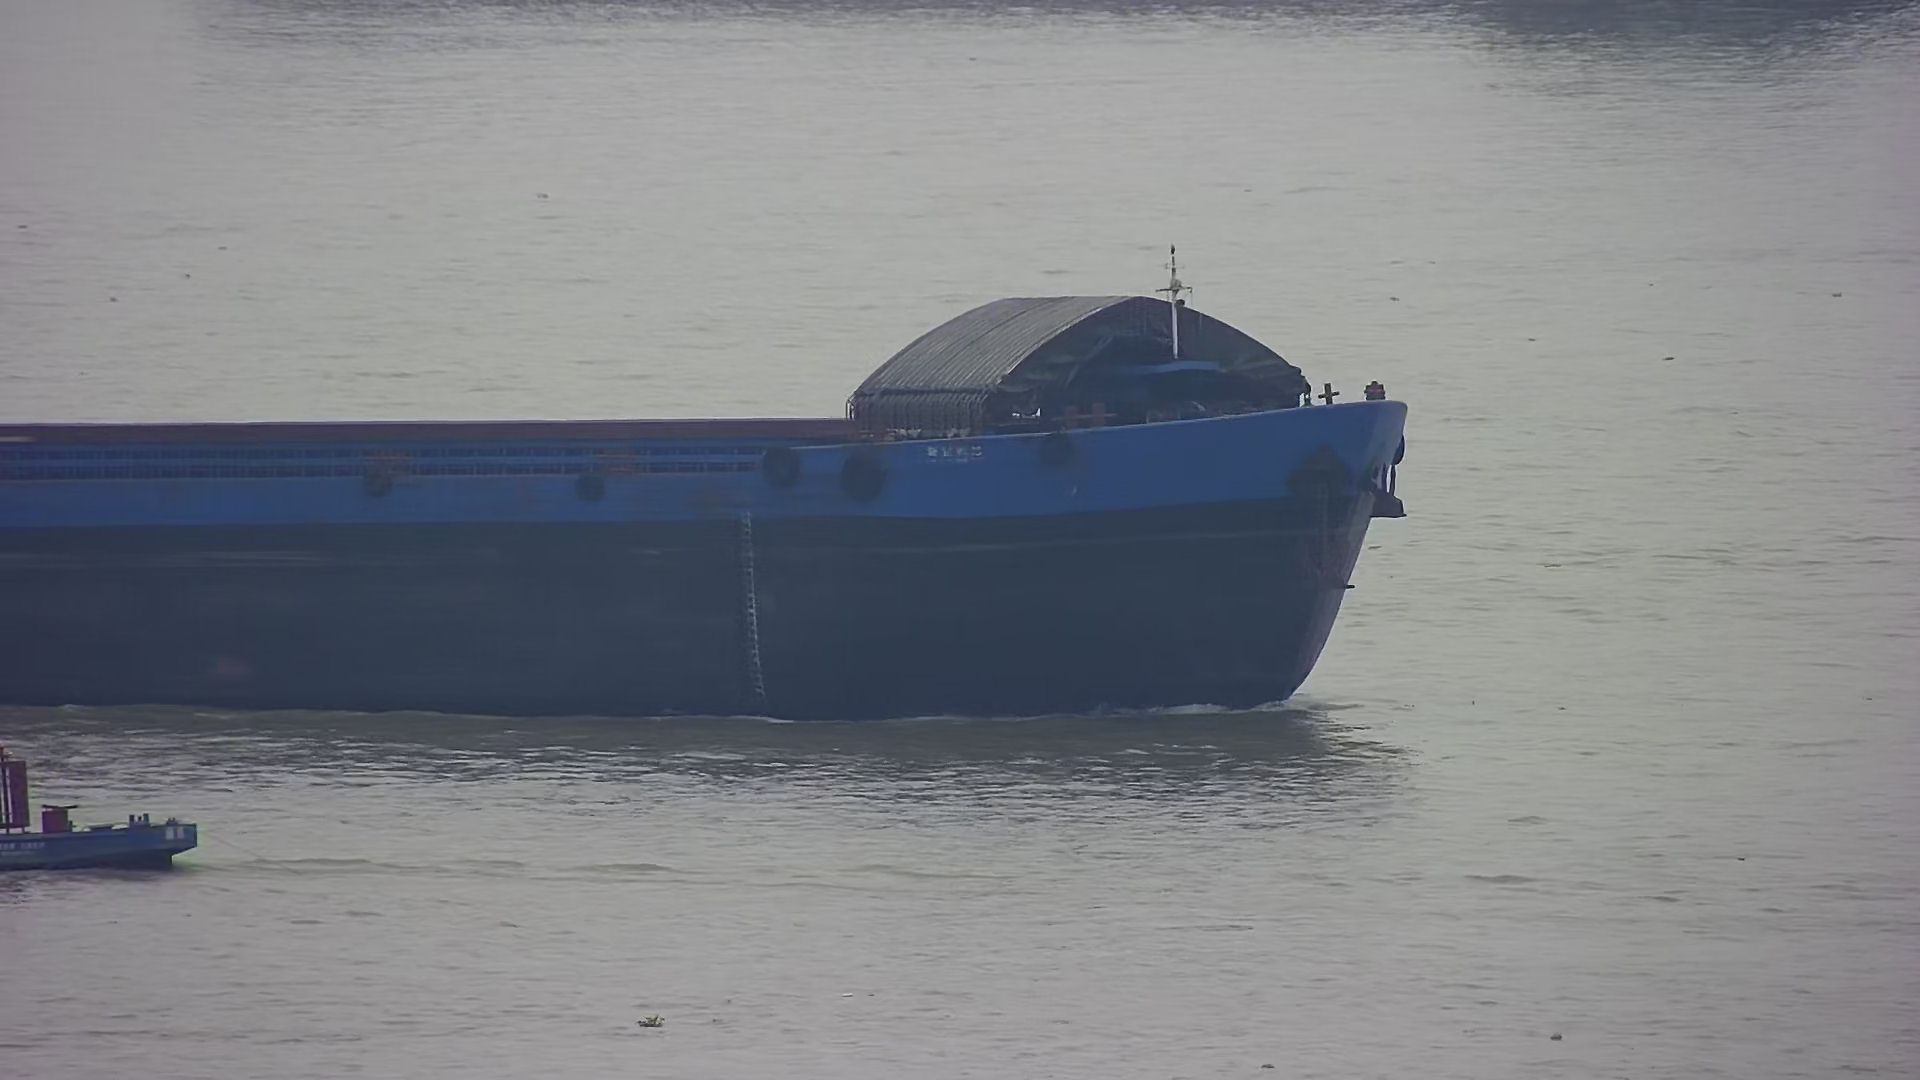boat: (1, 742, 204, 878)
ship: (3, 247, 1408, 719)
